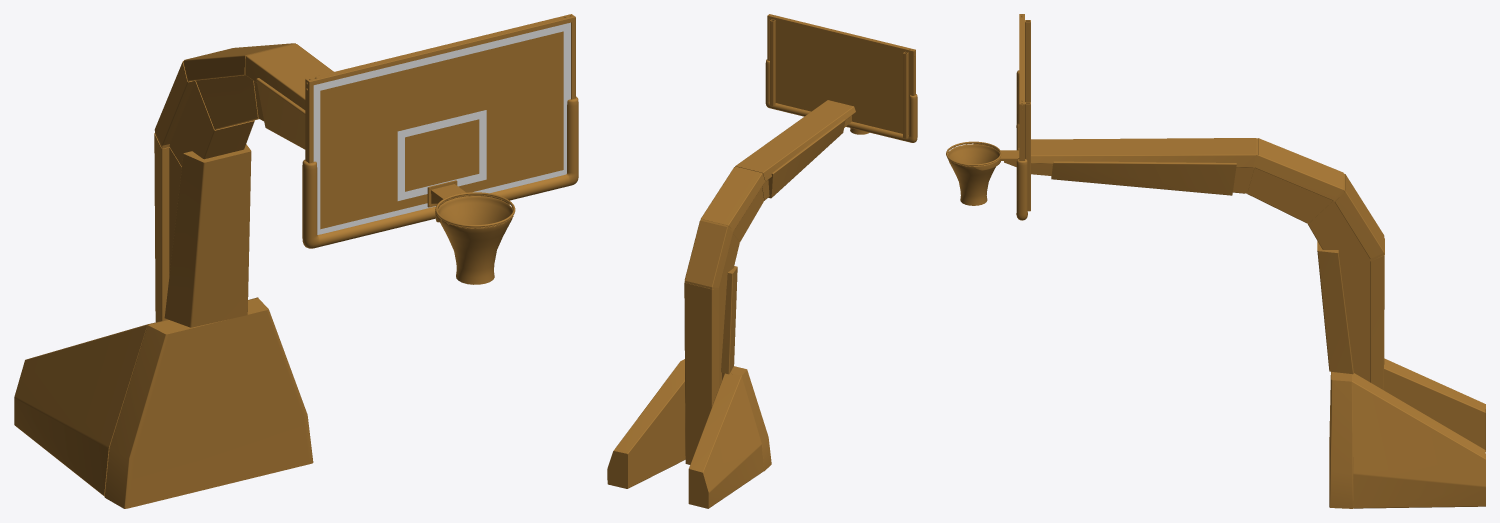
File: hoop.fbx
3 renders of one model, left to right at view 1: azimuth 30°, elevation 25°; view 2: azimuth 150°, elevation 25°; view 3: azimuth 270°, elevation 25°, orthographic. The views are drawn at different scales.
Parts seen in each view (by area): view 1: padding, glass1, stand, lines, net, frame, rim; view 2: padding, stand, glass, frame; view 3: padding, stand, net, frame, rim.
Part boxes in pixels (x1,y1,x2,y2): padding: (14, 78, 578, 508); glass1: (320, 31, 563, 229); stand: (154, 43, 333, 322); lines: (313, 22, 570, 234); net: (437, 196, 512, 284); frame: (305, 14, 575, 163); rim: (427, 180, 515, 228); padding: (607, 59, 917, 508); stand: (684, 100, 855, 464); glass: (770, 18, 911, 134); frame: (767, 14, 915, 138); padding: (1016, 70, 1485, 508); stand: (1031, 138, 1384, 390); net: (947, 144, 999, 205); frame: (1019, 14, 1030, 211); rim: (946, 141, 1019, 170).
Size of what is drawn, in the model's own units: 188 by 394 by 462.
